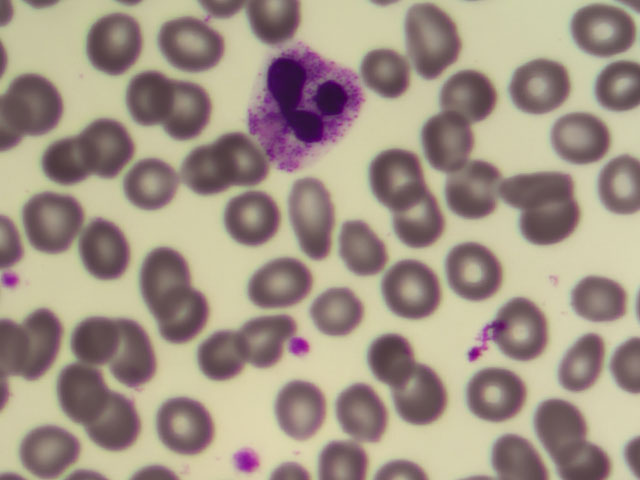Platelets: (229, 445, 264, 480), (1, 264, 25, 298), (289, 339, 310, 356)
RBC: (446, 238, 511, 302), (393, 193, 458, 257), (364, 157, 429, 221), (411, 109, 476, 173), (440, 67, 505, 131), (362, 44, 427, 108), (394, 8, 459, 72), (516, 49, 581, 113), (547, 105, 612, 169), (500, 145, 565, 209), (444, 153, 509, 217), (517, 191, 582, 255), (568, 264, 633, 328), (550, 330, 615, 394), (491, 296, 556, 360), (467, 359, 532, 423), (535, 387, 600, 451), (391, 370, 456, 434), (357, 329, 422, 393), (326, 380, 391, 444), (270, 375, 335, 439), (85, 13, 142, 74), (119, 67, 176, 128), (149, 75, 206, 136), (161, 17, 218, 78), (85, 108, 142, 169), (40, 133, 97, 194), (16, 74, 73, 135), (72, 215, 129, 276), (27, 192, 84, 253), (15, 310, 72, 371), (72, 312, 129, 373), (115, 320, 172, 381), (152, 291, 209, 352), (146, 248, 203, 309), (93, 389, 150, 450), (60, 358, 117, 419), (20, 419, 77, 480), (160, 394, 217, 455), (195, 327, 252, 388), (234, 311, 291, 372), (259, 254, 316, 315), (237, 194, 294, 255), (225, 137, 282, 198), (179, 137, 236, 198), (121, 147, 178, 208), (227, 187, 284, 248), (334, 217, 391, 278), (308, 277, 365, 338), (385, 259, 442, 320), (477, 427, 542, 480), (286, 183, 342, 242)
WBC: (254, 43, 365, 163)
